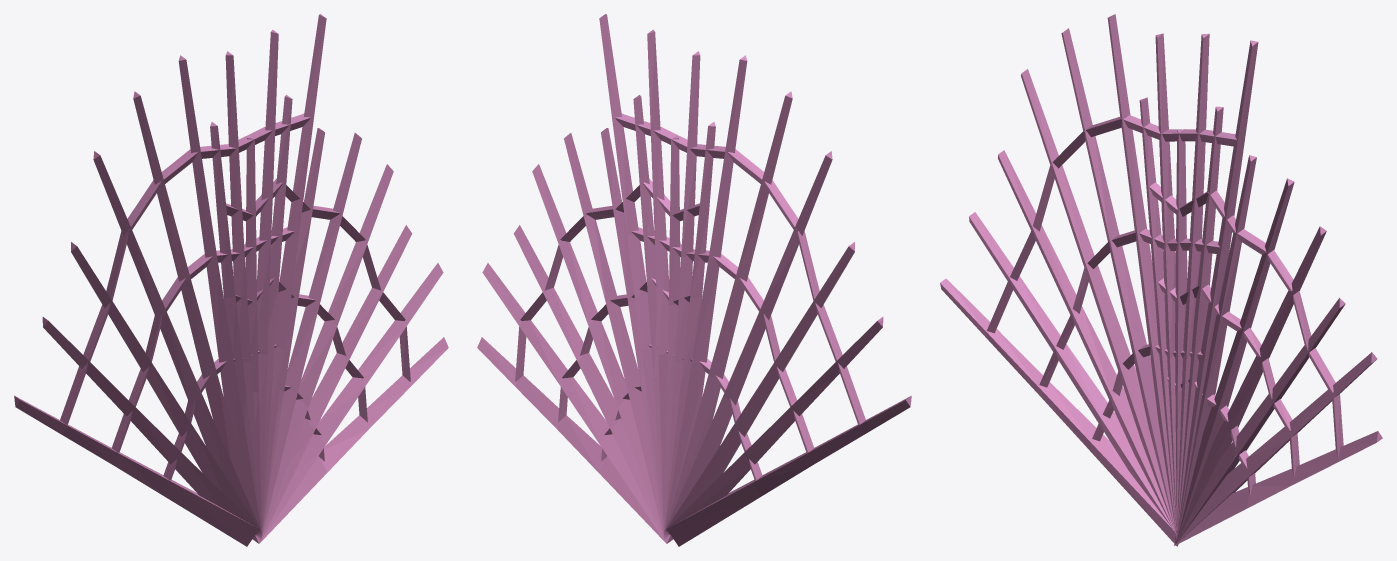
File: bd_z2_sea_fan.glb
3 renders of one model, left to right at view 1: azimuth 30°, elevation 25°; view 2: azimuth 150°, elevation 25°; view 3: azimuth 330°, elevation 25°, orthographic.
Parts seen in each view (by area): view 1: bd_z2_sea_fan; view 2: bd_z2_sea_fan; view 3: bd_z2_sea_fan.
Boxes of the visible parts, x1,y1,x2,y2 form: bd_z2_sea_fan: (14,14,448,546); bd_z2_sea_fan: (477,14,911,546); bd_z2_sea_fan: (940,14,1382,546).
Bounding box in the file's own units: 5.6 × 6.4 × 0.3464.
